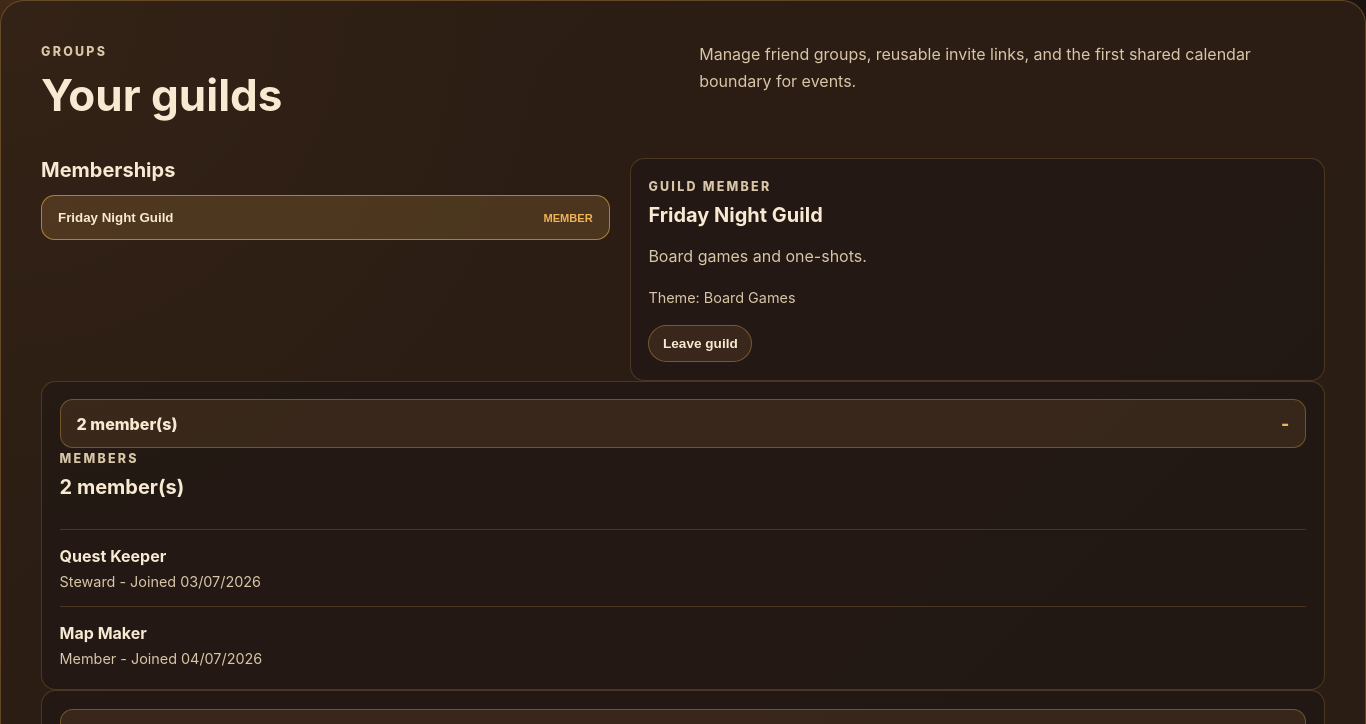
Test: GroupsPage › lets members leave guilds
Expected: the text "Board games and one-shots." is shown, [648, 246, 867, 266]
Click the button "Leave guild". click: {"x": 700, "y": 344}
box: [648, 325, 752, 362]
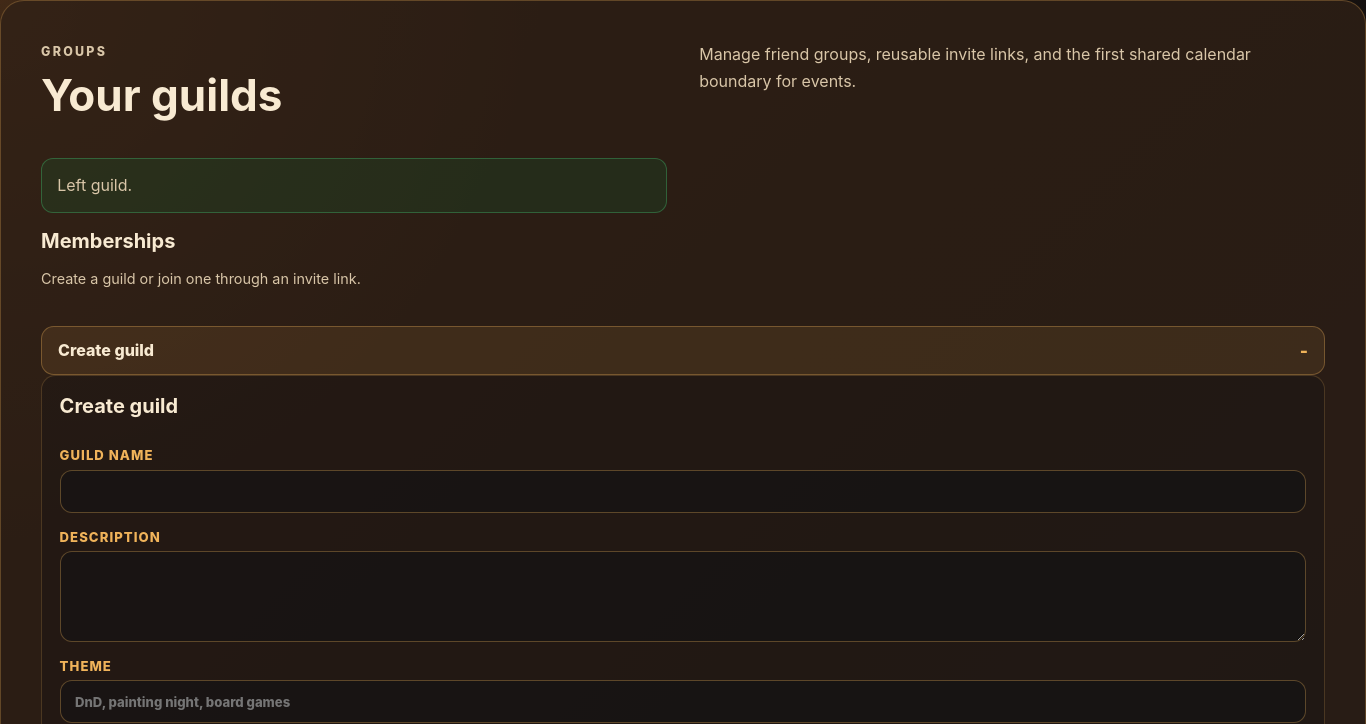
Result: the text "Left guild." is shown at [41, 158, 667, 213]
Result: the text "Create a guild or join one through an invite link." is shown at [41, 270, 361, 287]
